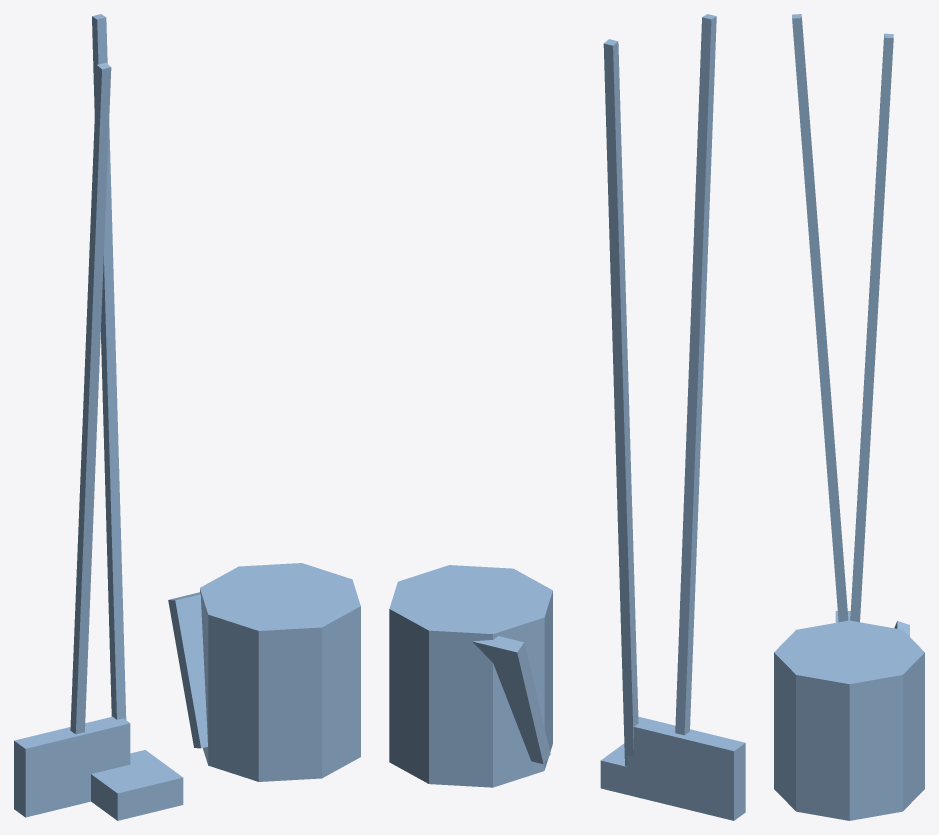
The model's file is ChoiLau_Gop.glb.
The picture shows the model from 3 angles, left to right: view 1: azimuth 30°, elevation 25°; view 2: azimuth 150°, elevation 25°; view 3: azimuth 270°, elevation 25°; orthographic projection. The views are drawn at different scales.
Parts seen in each view (by area): view 1: geometry_0; view 2: geometry_0; view 3: geometry_0.
Part boxes in pixels (box(x1,y1,x2,y2)): geometry_0: box(14, 14, 360, 820); geometry_0: box(389, 14, 745, 820); geometry_0: box(774, 14, 924, 820).
Bounding box in the file's own units: 0.51 × 1.1 × 0.22.
